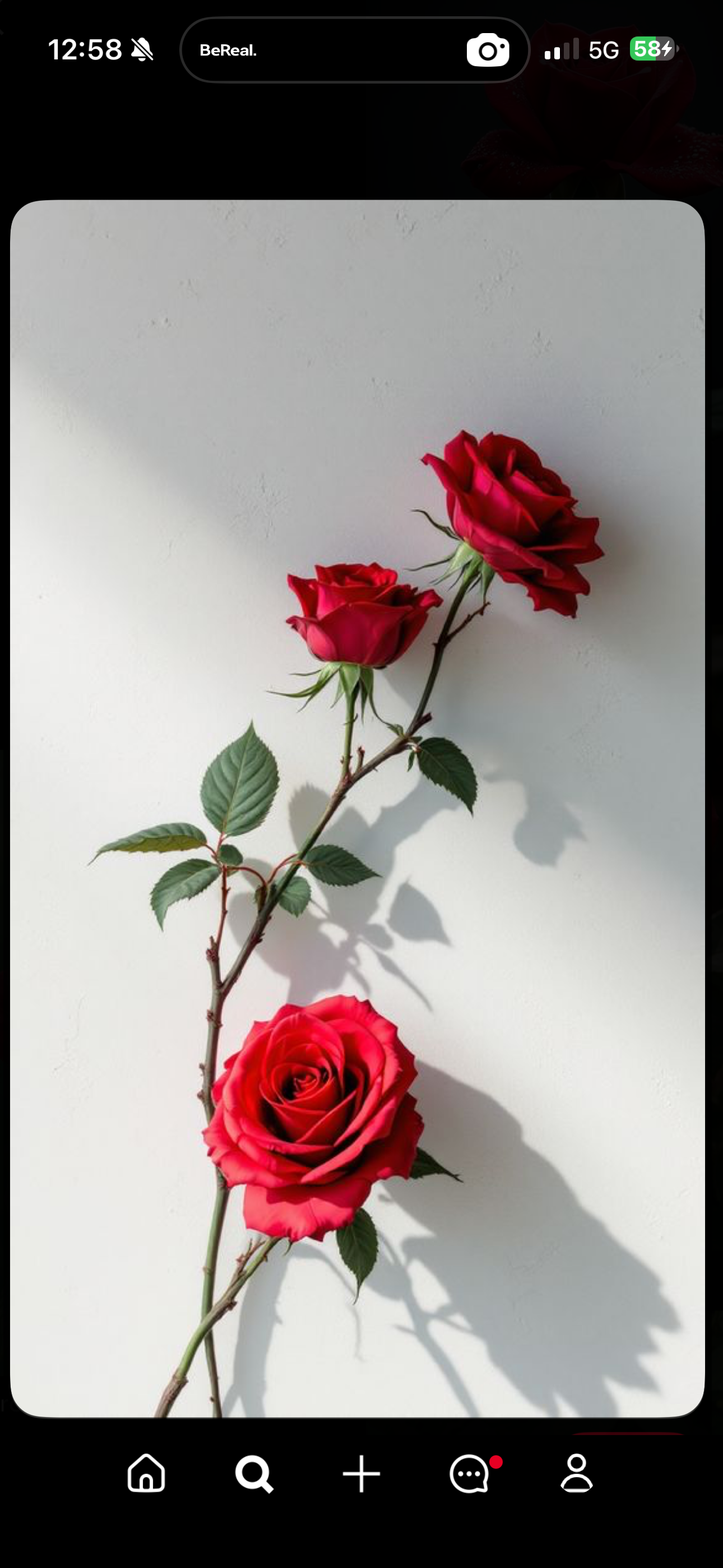rose: (199, 991, 426, 1244), (418, 428, 608, 619), (282, 558, 444, 669)
